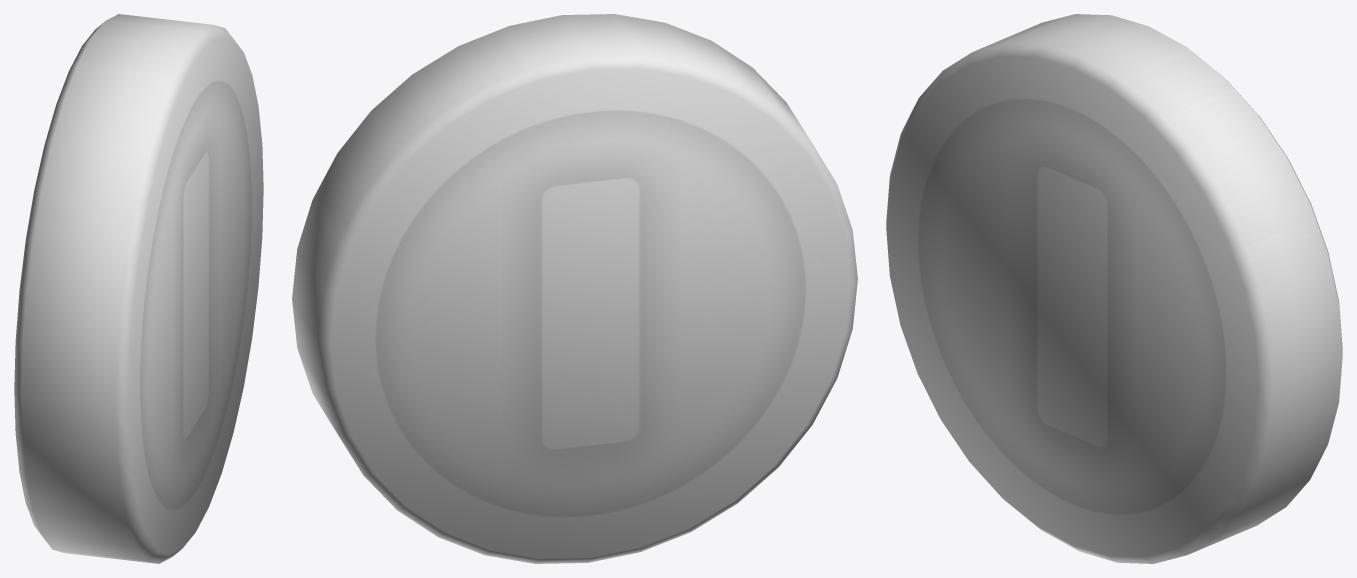
Rendered from Coin_Silver.fbx.
3 views of the same model, side by side, from view 1: azimuth 30°, elevation 25°; view 2: azimuth 150°, elevation 25°; view 3: azimuth 270°, elevation 25° (orthographic). The views are drawn at different scales.
Visible parts, largest first — view 1: CoinStar; view 2: CoinStar; view 3: CoinStar.
Boxes of the visible parts, <box> form: CoinStar: <box>14,14,263,563</box>; CoinStar: <box>292,14,857,563</box>; CoinStar: <box>886,14,1342,563</box>.
Bounding box in the file's own units: 167 × 200 × 167.
Materials: 1 (1 with a texture image).
